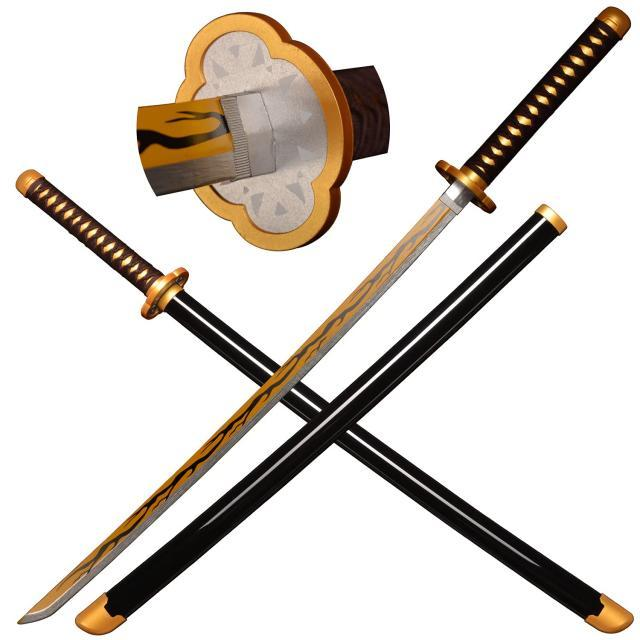katana: (7, 4, 638, 631), (7, 154, 637, 639)
scabbard: (68, 195, 581, 640)
